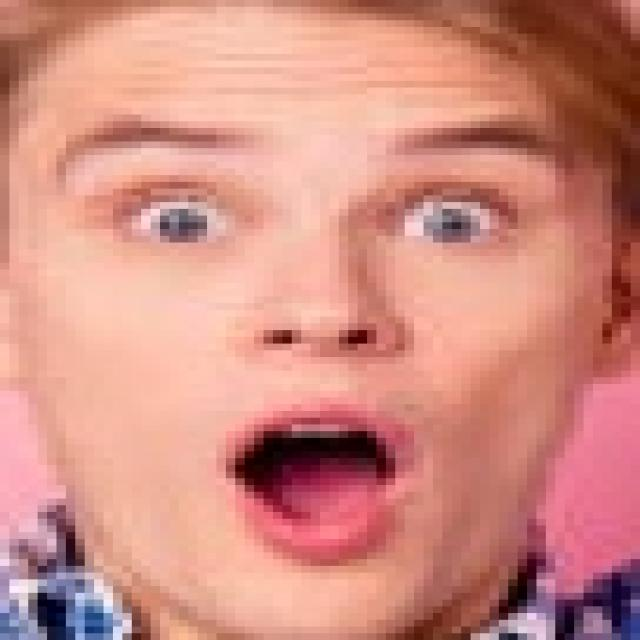Anxiety: (9, 10, 610, 633)
